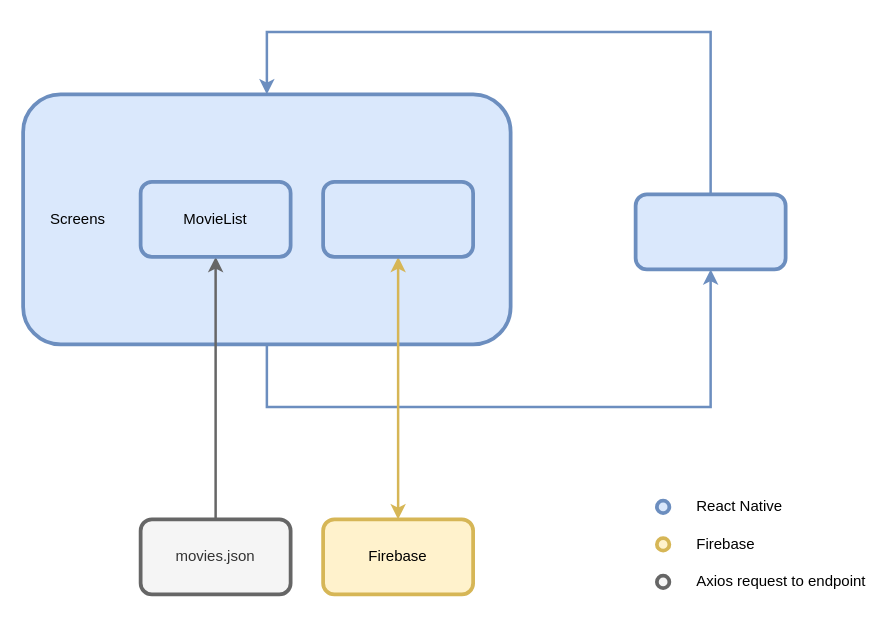
Some shapes in this 891 by 618 pixel diagram are drawn without their labels. The centre of each missing label's shape, as x and y in pixels:
"Comments" belongs at point 397,218.
"Navigators" belongs at point 710,231.
